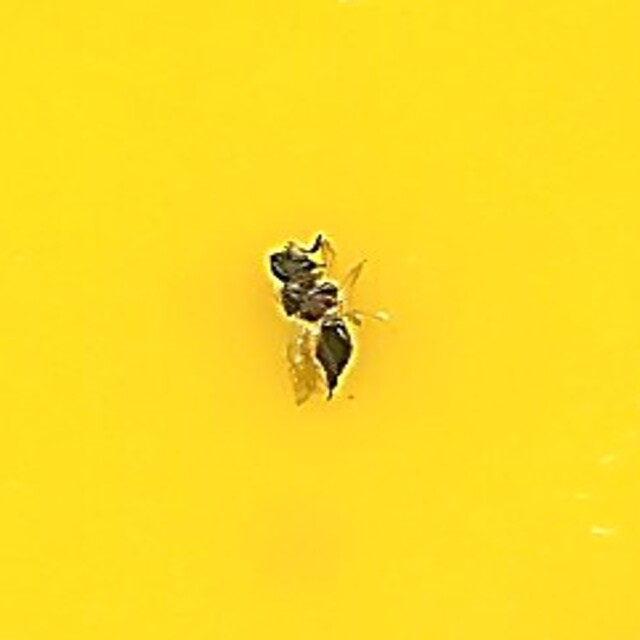Hymenoptera: (266, 228, 374, 412)
